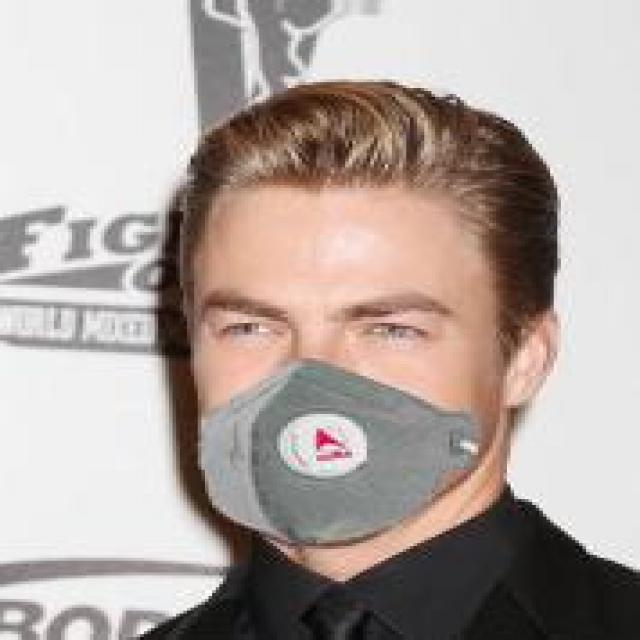mask: (144, 82, 572, 546)
